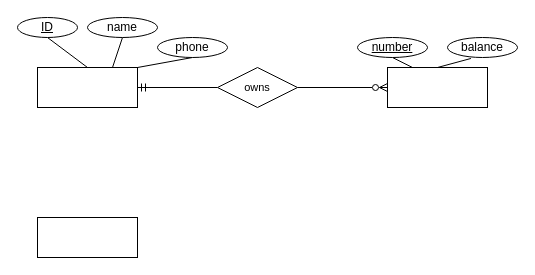
This 535x275 diagram has some shape labels left out. Each missing label, with the centre of its shape:
"Account" belongs at [437,87].
"Customer" belongs at [87,87].
"Transaction" belongs at [87,237].
